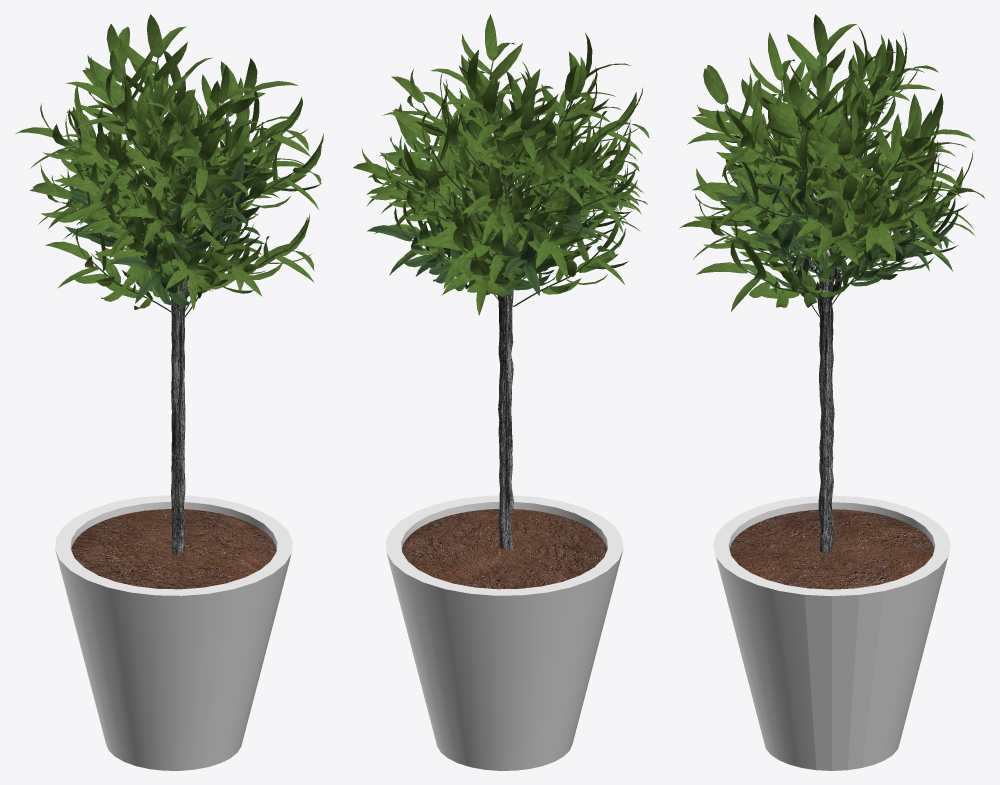
File: planta.glb
3 renders of one model, left to right at view 1: azimuth 30°, elevation 25°; view 2: azimuth 150°, elevation 25°; view 3: azimuth 270°, elevation 25°, orthographic.
Visible parts, largest first — view 1: Planta; view 2: Planta; view 3: Planta.
Boxes of the visible parts, <box> form: Planta: <box>15,14,323,770</box>; Planta: <box>353,14,649,770</box>; Planta: <box>679,14,984,770</box>.
Bounding box in the file's own units: 0.673 × 1.75 × 0.69.
5 materials, 5 textured.
